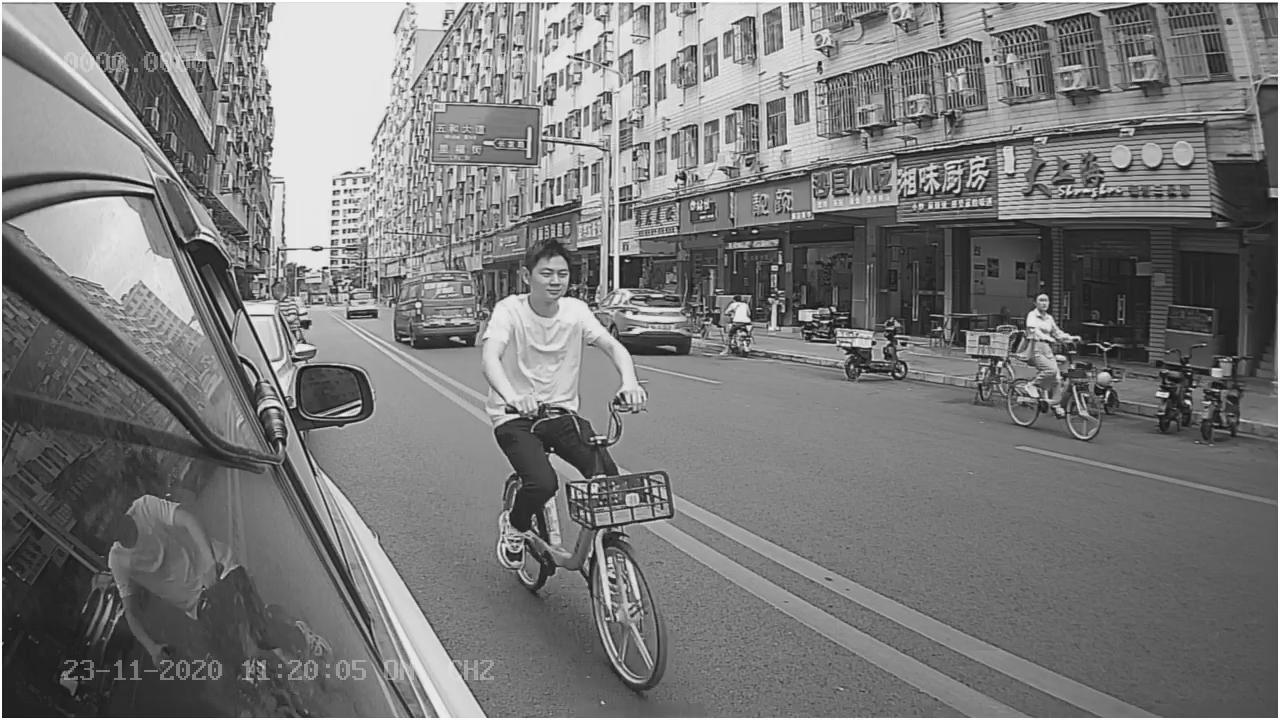person: (468, 234, 652, 421)
